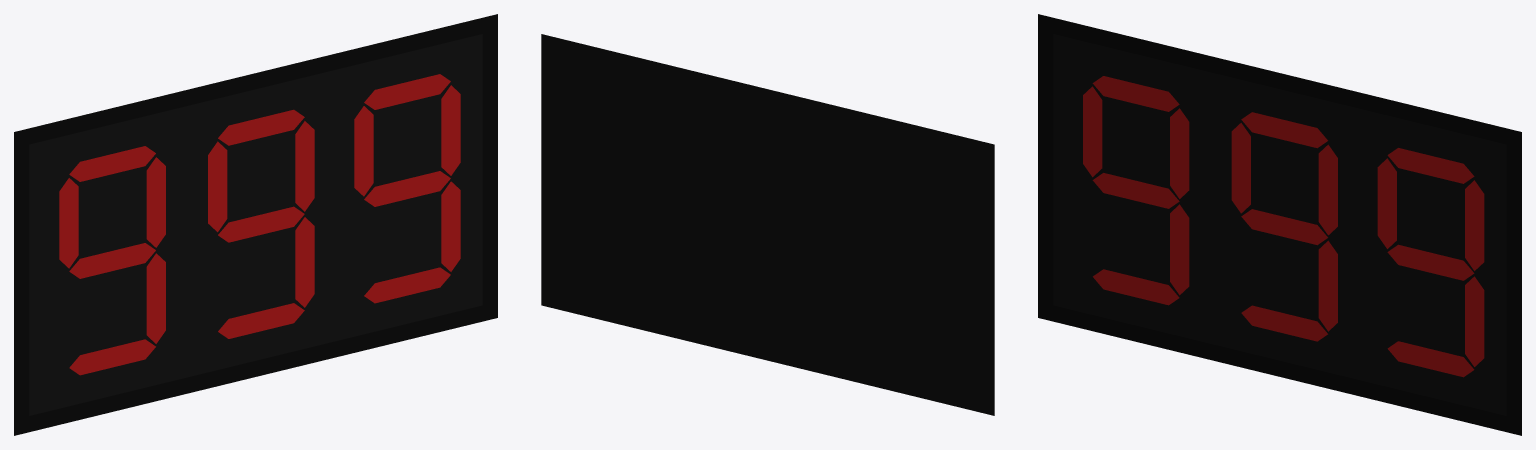
Rendered from scoreboard.fbx.
The picture shows the model from 3 angles, left to right: view 1: azimuth 30°, elevation 25°; view 2: azimuth 150°, elevation 25°; view 3: azimuth 330°, elevation 25°; orthographic projection.
Visible parts, largest first — view 1: Object001, Plane066, Plane067, Plane068, Plane069; view 2: Object001; view 3: Object001, Plane066, Plane069, Plane068, Plane067.
Part boxes in pixels (bbox=[...]): Object001: bbox=[29, 34, 482, 415]; Plane066: bbox=[14, 14, 497, 435]; Plane067: bbox=[59, 146, 165, 375]; Plane068: bbox=[208, 109, 314, 338]; Plane069: bbox=[354, 74, 460, 303]; Object001: bbox=[541, 34, 994, 415]; Object001: bbox=[1053, 34, 1506, 415]; Plane066: bbox=[1038, 14, 1521, 435]; Plane069: bbox=[1377, 148, 1484, 377]; Plane068: bbox=[1231, 112, 1337, 341]; Plane067: bbox=[1083, 76, 1189, 305].
Bounding box in the file's own units: 100 × 0.1 × 60.
